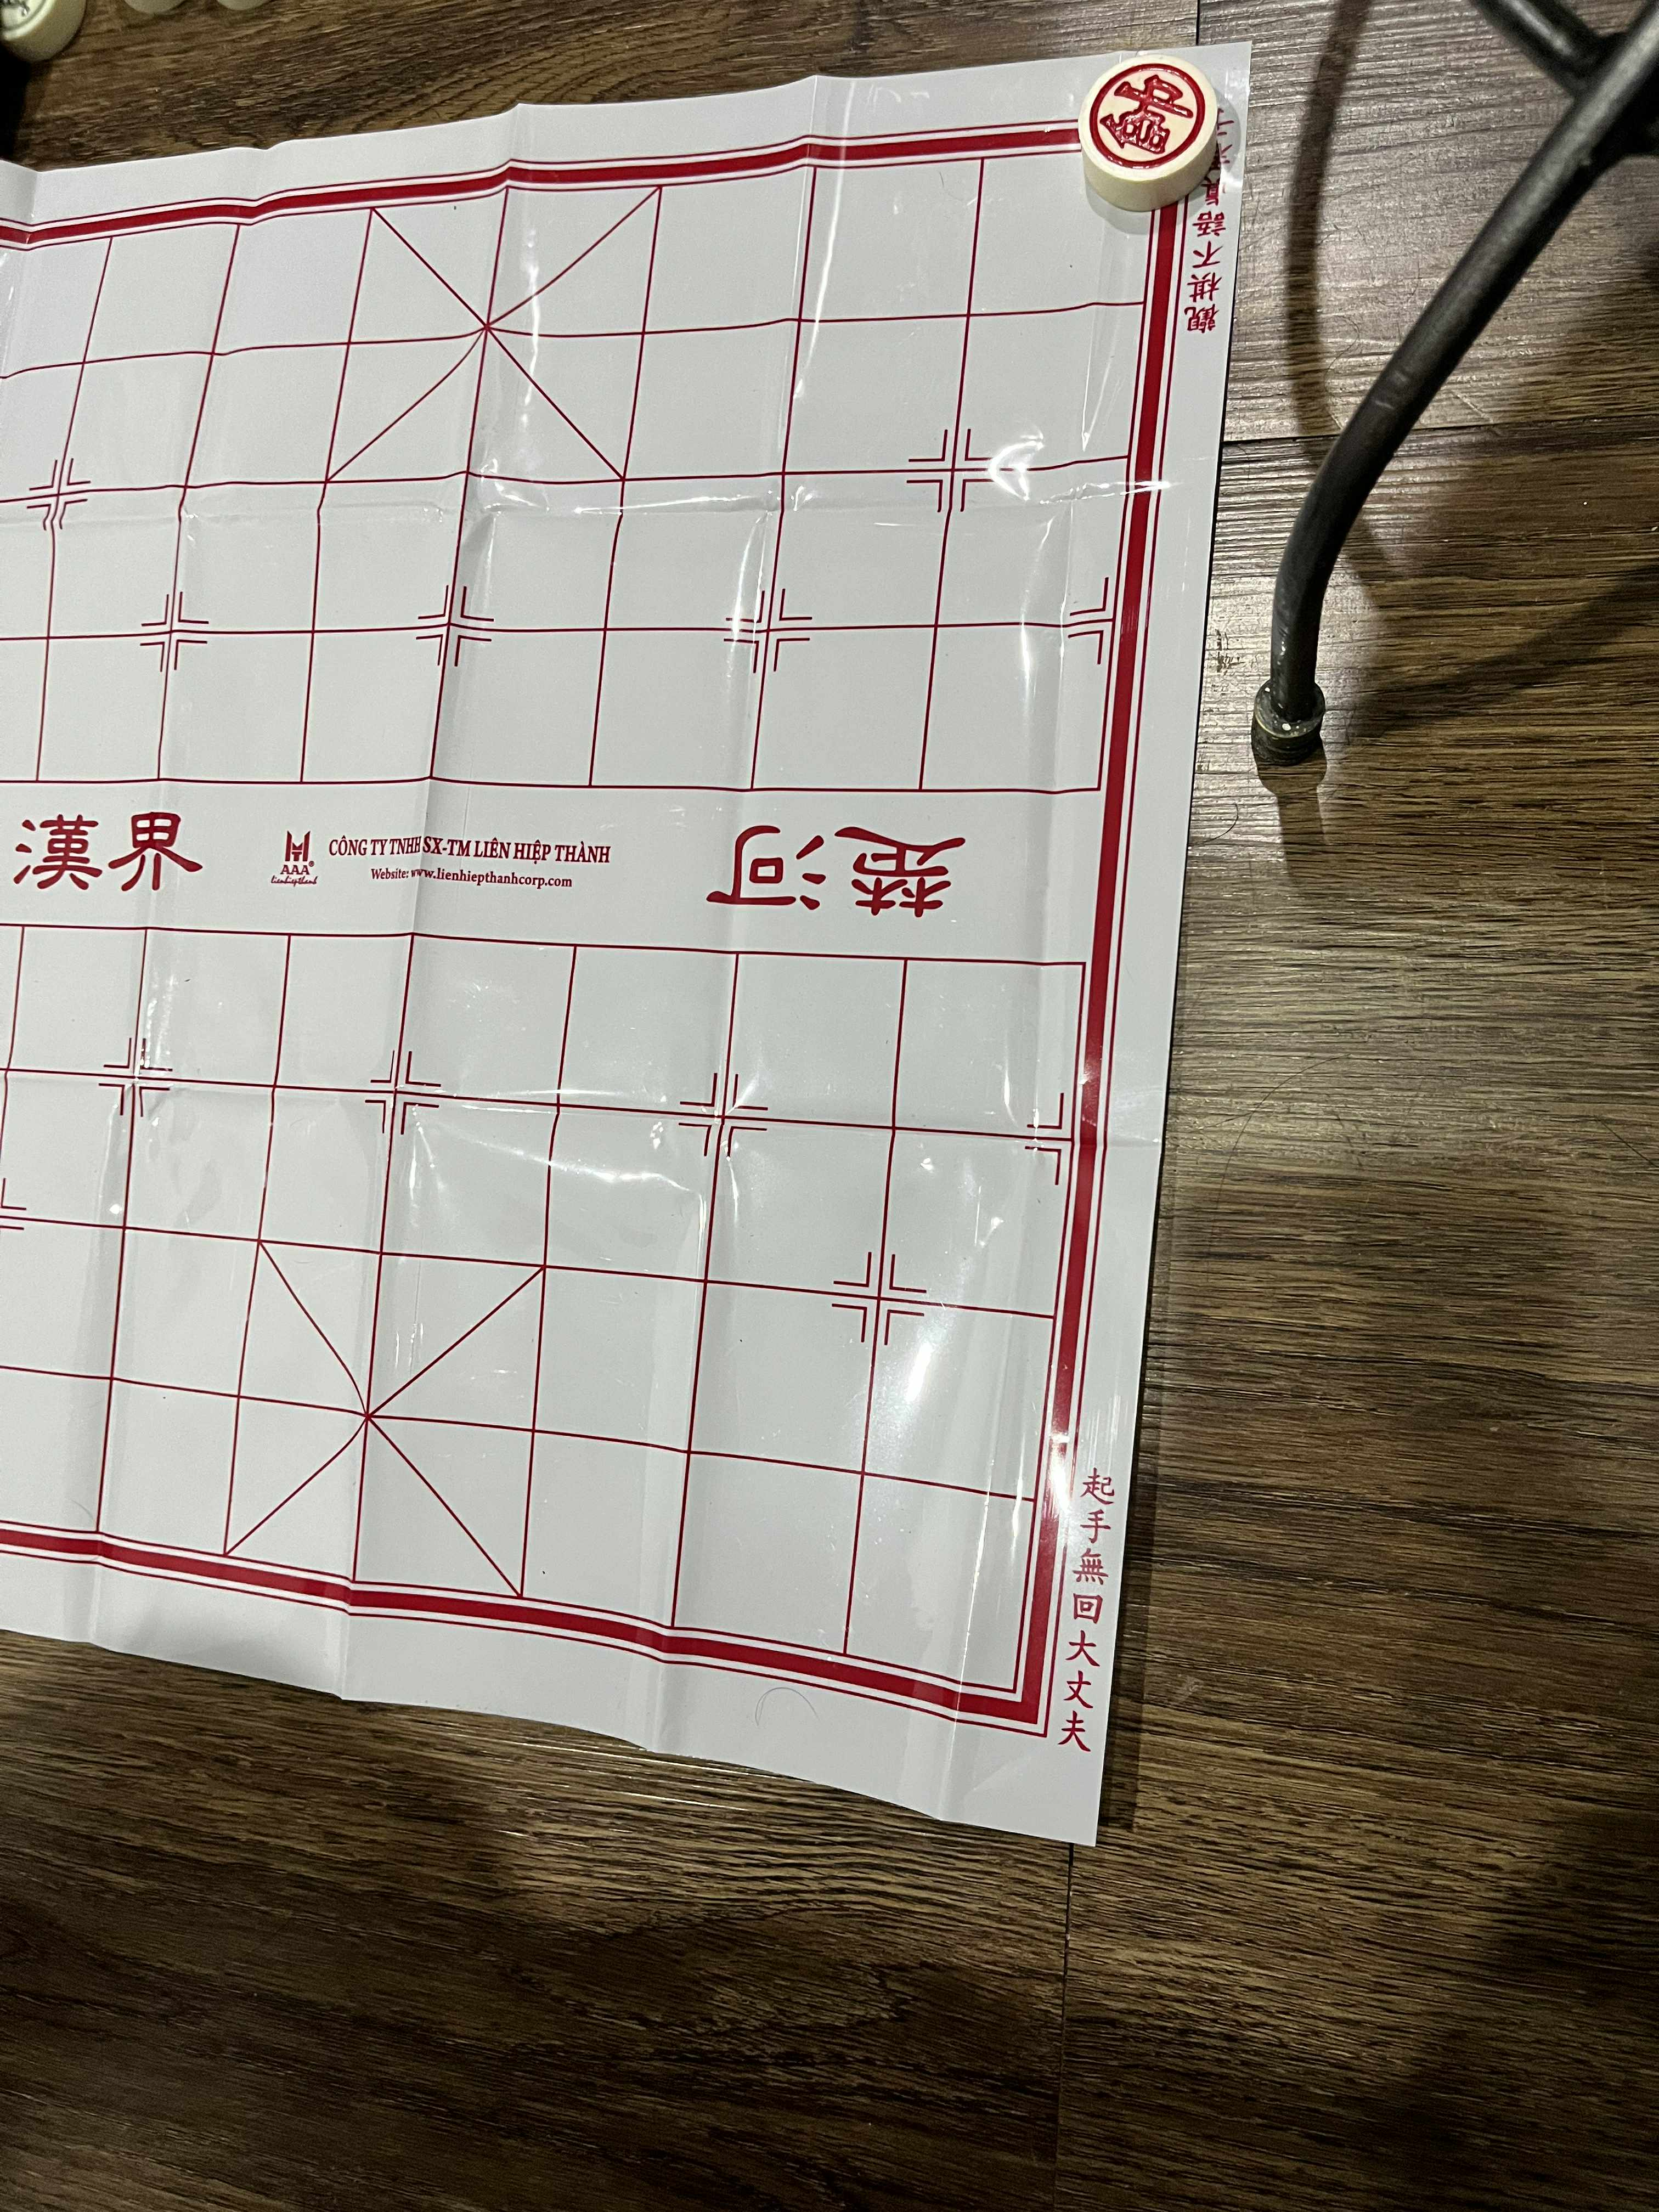red-general: (1079, 52, 1218, 183)
